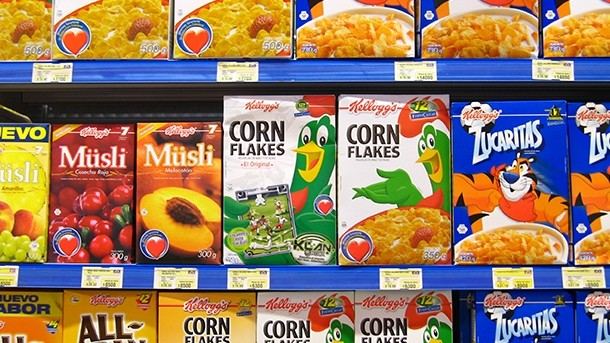Product 1: (212, 89, 457, 264)
Product 2: (25, 115, 148, 263)
Product 3: (449, 96, 572, 266)
